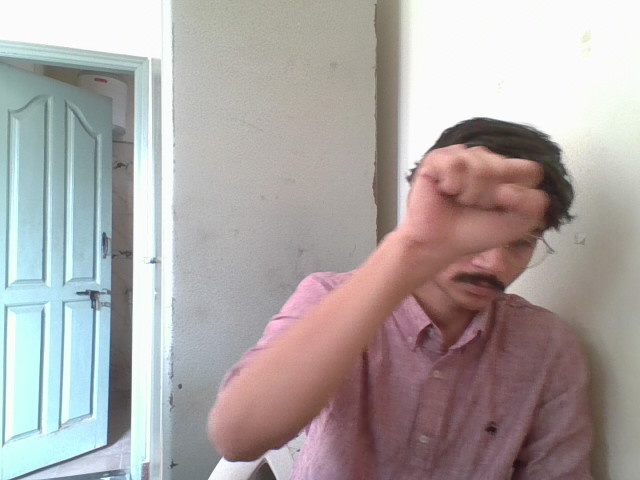power: (387, 131, 562, 280)
